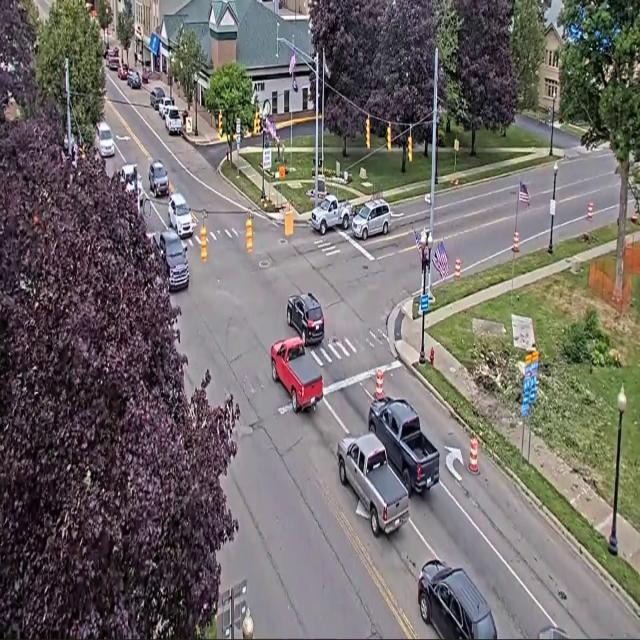car: (418, 560, 497, 639), (287, 293, 324, 344), (352, 200, 390, 240), (168, 193, 193, 238), (148, 160, 169, 197), (119, 165, 142, 197), (96, 122, 114, 157), (165, 106, 181, 135), (538, 626, 570, 639), (158, 96, 174, 119), (150, 87, 164, 110), (103, 44, 119, 59), (127, 71, 141, 88), (108, 54, 120, 71), (118, 64, 128, 79), (142, 68, 150, 84)
traffic signal: (246, 215, 252, 253), (200, 224, 206, 262), (254, 112, 260, 135), (366, 117, 370, 149), (387, 123, 391, 151), (408, 135, 412, 161), (218, 112, 222, 137)
truck: (338, 433, 409, 536), (369, 398, 439, 495), (271, 336, 323, 412), (153, 230, 189, 291), (311, 194, 352, 235)
